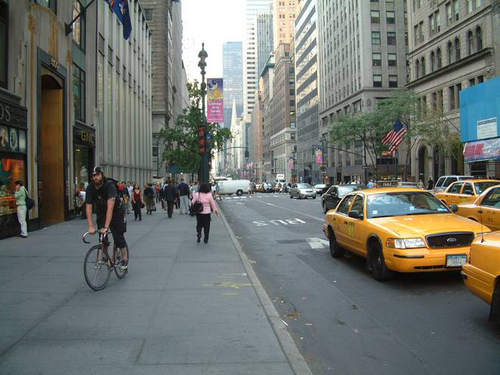bikerider: (64, 159, 141, 294)
